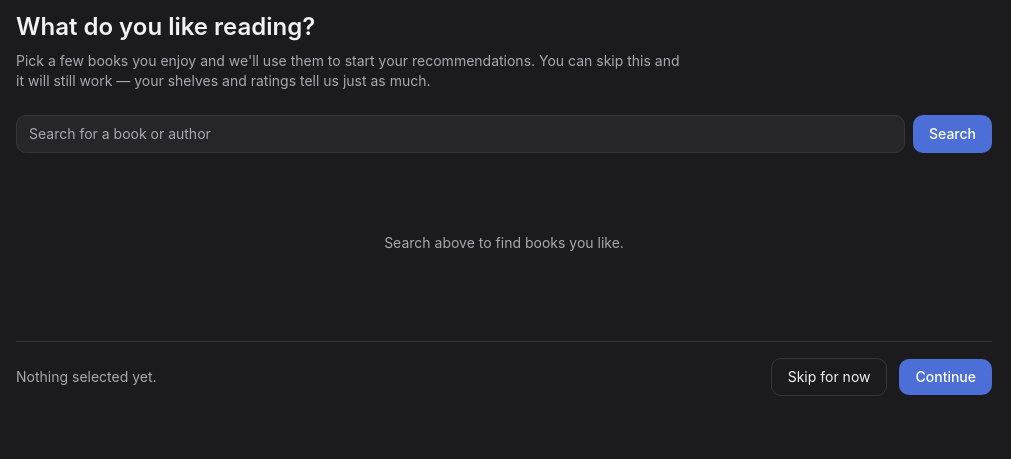
Test: OnboardingPage › surfaces a save failure instead of pretending it worked
The image size is (1011, 459).
Click the button "Continue" at (946, 377), box [900,359,992,395]
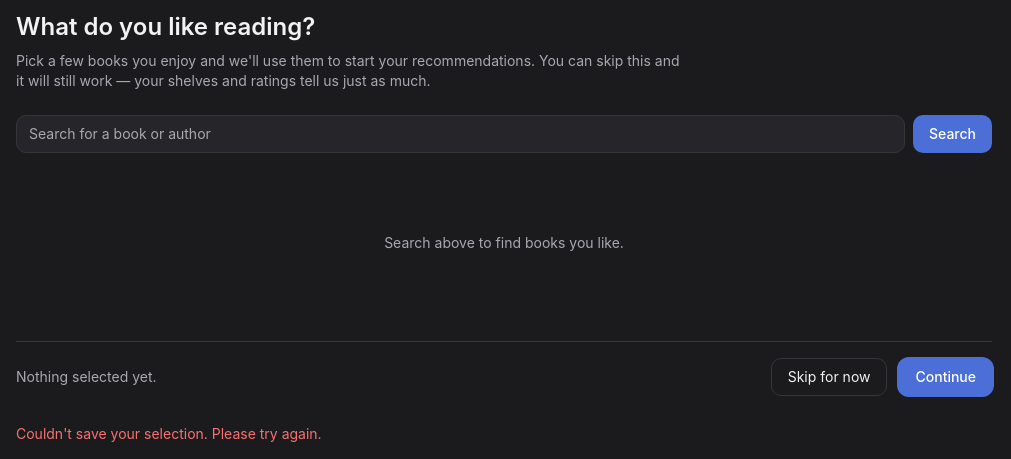
expect the message "Couldn't save your selection. Please try again." is shown: met, box [16,425,322,442]
